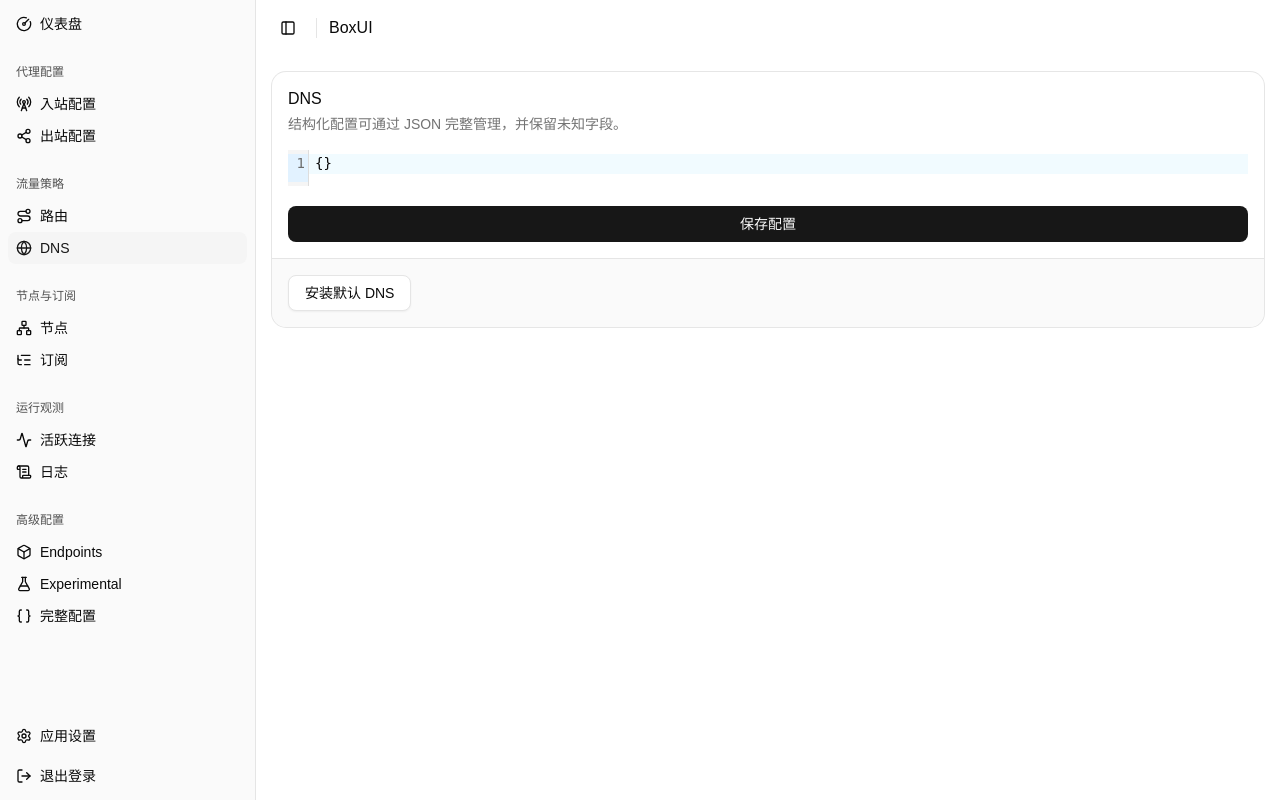
policy save and rollback states › reports a rolled back default installer
Click the button "安装默认 DNS" at (350, 293), box [288,275,412,311]
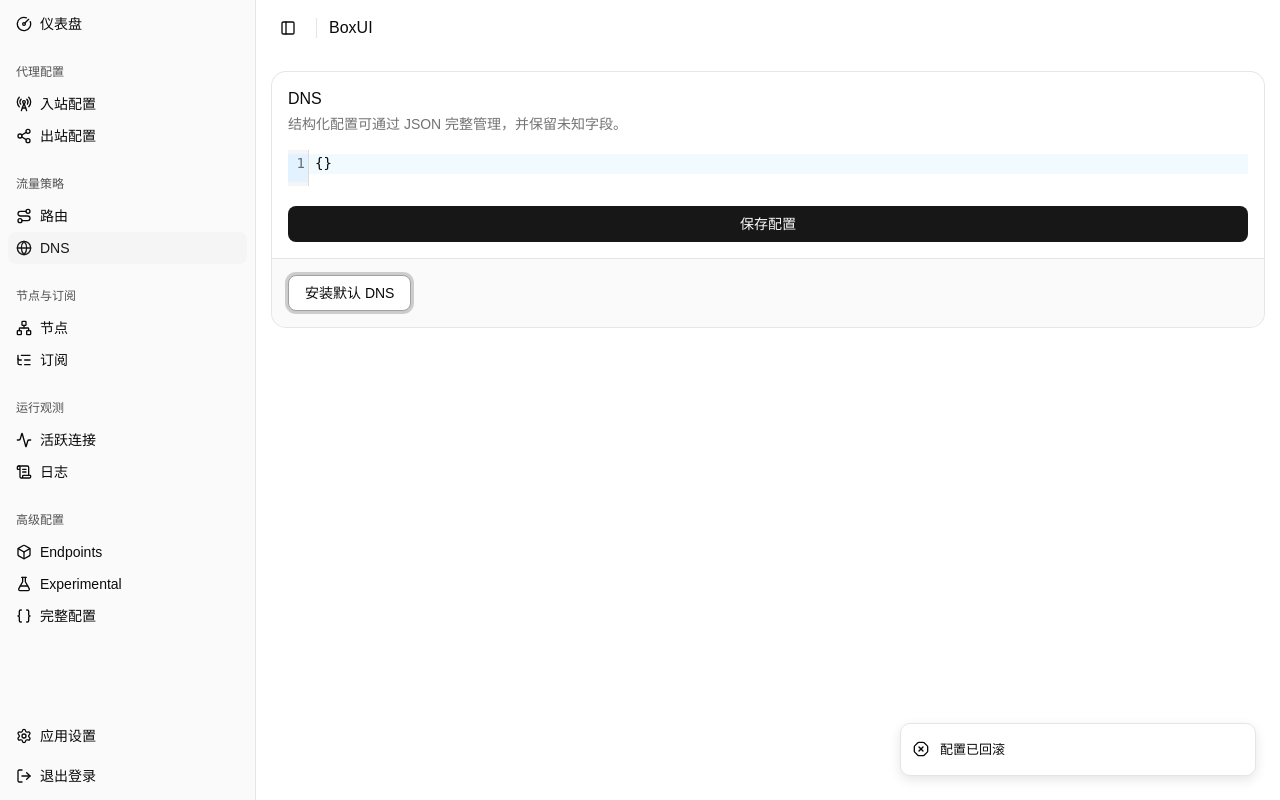
Now the text "配置已回滚" is shown, box [940,740,1005,759]
